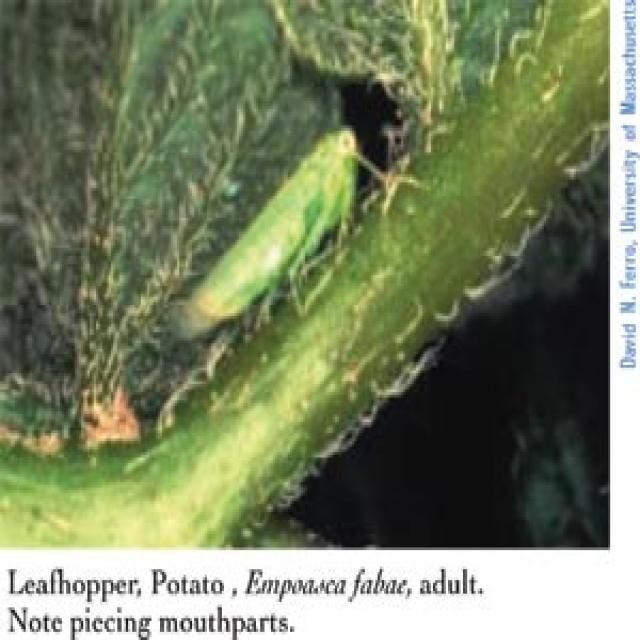Yechan: (186, 124, 374, 348)
